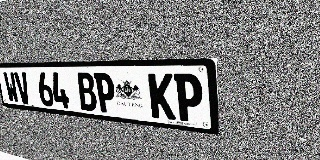4: (50, 72, 70, 109)
6: (36, 72, 55, 107)
B: (76, 73, 98, 112)
K: (148, 73, 176, 120)
P: (174, 73, 203, 123), (93, 73, 117, 114)
V: (14, 72, 32, 104)
W: (3, 72, 20, 103)
